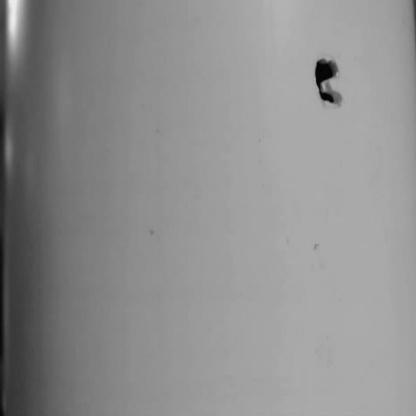kongdong: (305, 47, 351, 109)
